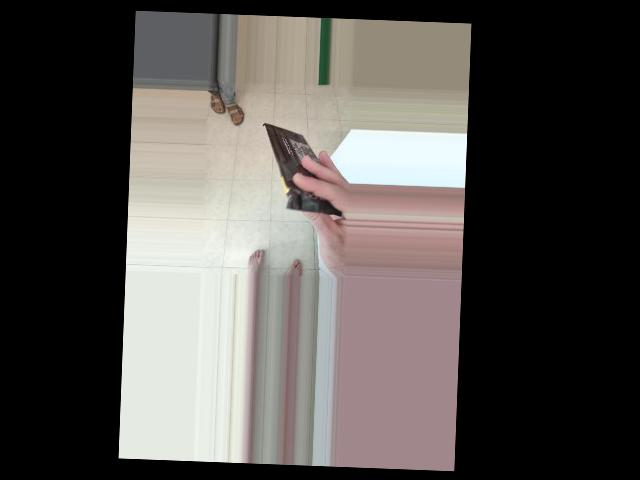chocolate: (210, 134, 316, 226)
